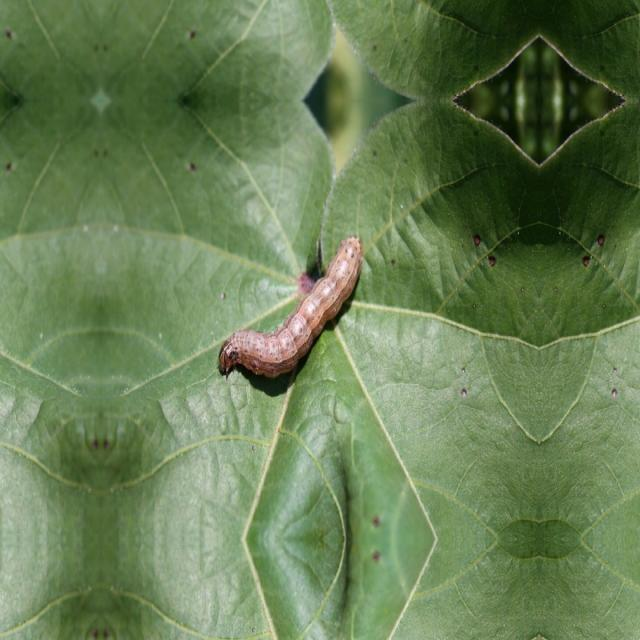armyworm: (217, 233, 363, 380)
